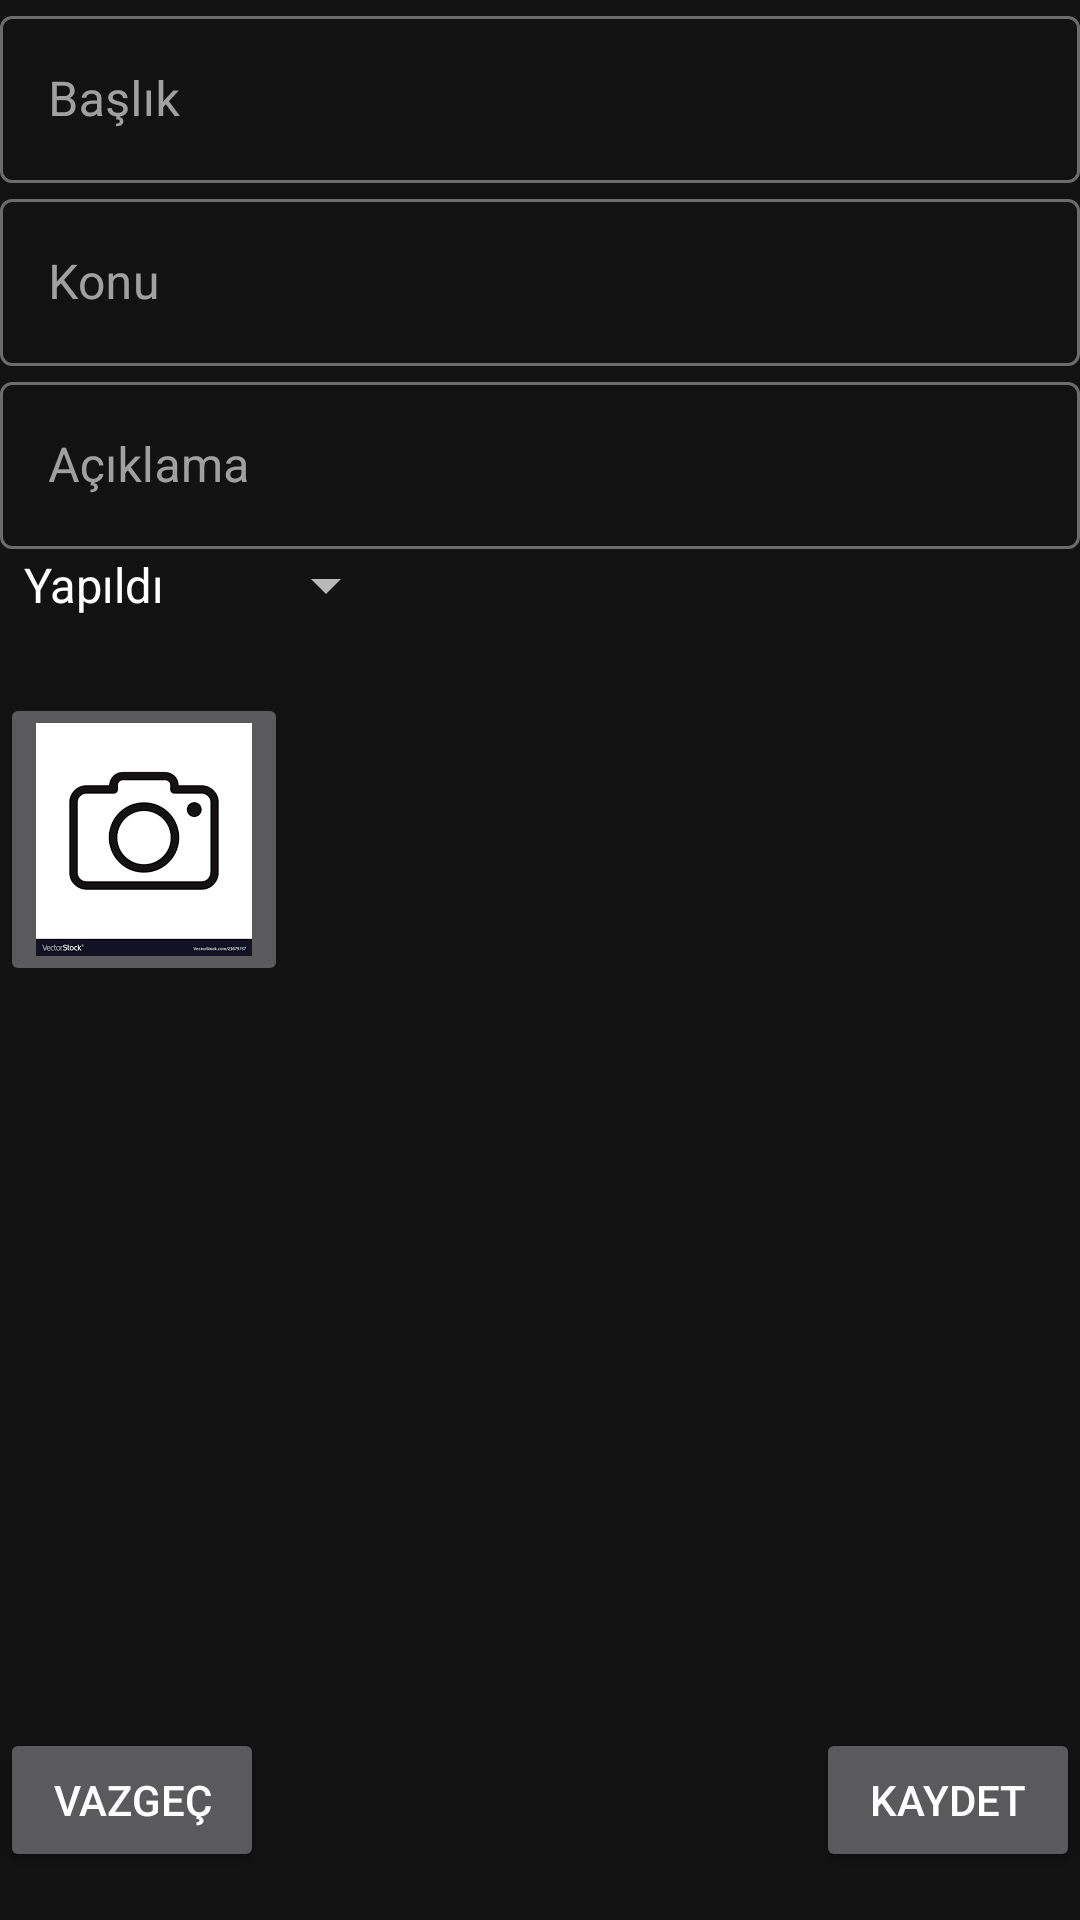

Screen size 1080px x 1920px. Icon name, then its box in pixels as region(x1, y1, x2, y2):
camera: region(12, 711, 276, 968)
